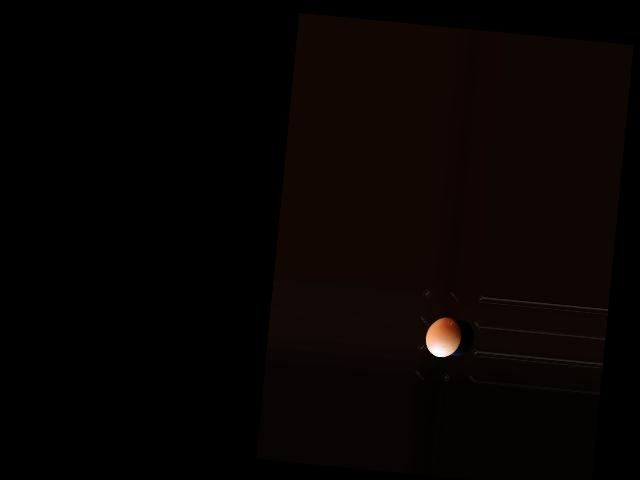egg: (424, 315, 463, 359)
